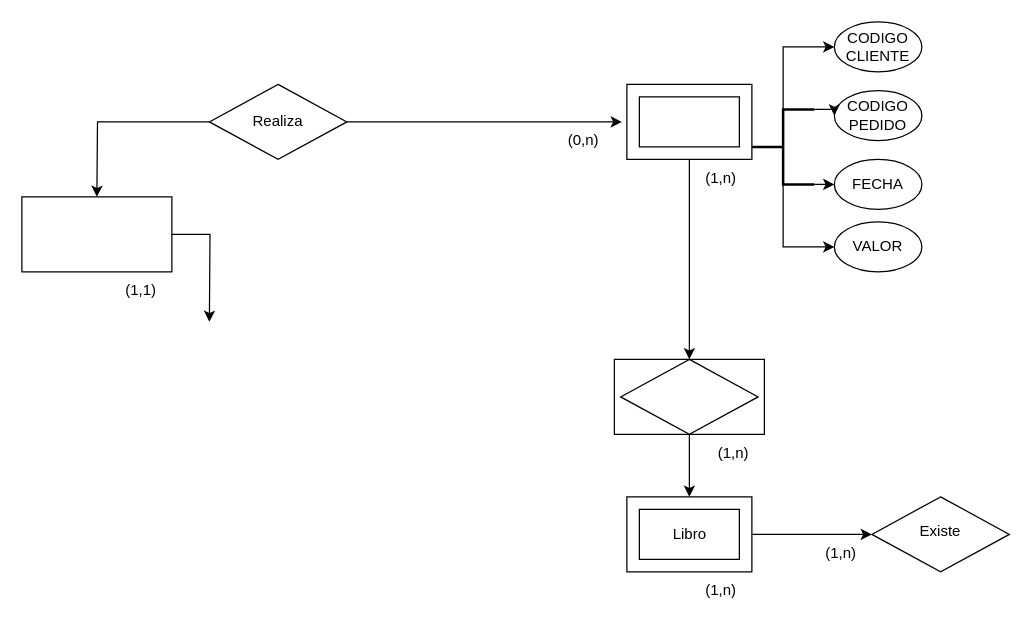
This 1031x631 diagram has some shape labels left out. Each missing label, with the centre of its shape:
Cliente: point (96, 234)
Contiene: point (688, 396)
Pedido: point (689, 121)
